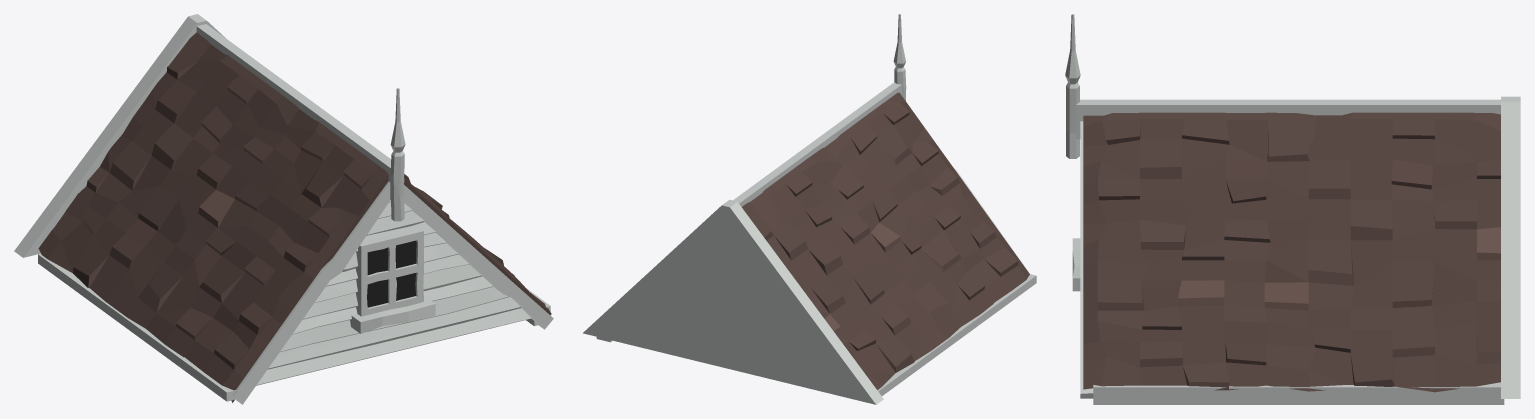
File: SM_Bld_Mansion_Roof_Single_01.glb
The picture shows the model from 3 angles, left to right: view 1: azimuth 30°, elevation 25°; view 2: azimuth 150°, elevation 25°; view 3: azimuth 270°, elevation 25°; orthographic projection. The views are drawn at different scales.
Visible parts, largest first — view 1: SM_Bld_Mansion_Roof_Single_01; view 2: SM_Bld_Mansion_Roof_Single_01; view 3: SM_Bld_Mansion_Roof_Single_01.
Boxes of the visible parts, bbox=[...] form: SM_Bld_Mansion_Roof_Single_01: bbox=[14, 14, 553, 404]; SM_Bld_Mansion_Roof_Single_01: bbox=[583, 14, 1036, 404]; SM_Bld_Mansion_Roof_Single_01: bbox=[1065, 14, 1520, 404].
Bounding box in the file's own units: 0.0499 × 0.0385 × 0.0519.
1 material, 1 textured.
